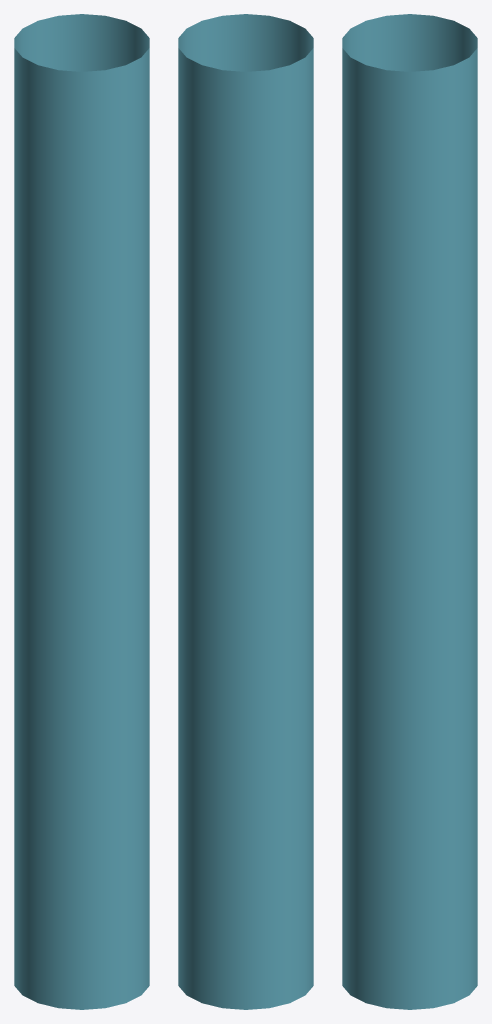
The model's file is pillar.fbx.
3 views of the same model, side by side, from view 1: azimuth 90°, elevation 25°; view 2: azimuth 210°, elevation 25°; view 3: azimuth 270°, elevation 25° (orthographic).
Visible parts, largest first — view 1: Pillar_L; view 2: Pillar_L; view 3: Pillar_L.
Boxes of the visible parts, x1,y1,x2,y2 form: Pillar_L: [14, 14, 149, 1009]; Pillar_L: [178, 14, 313, 1009]; Pillar_L: [342, 14, 477, 1009].
Size of the model in its own units: 56.02 by 423 by 55.17.
